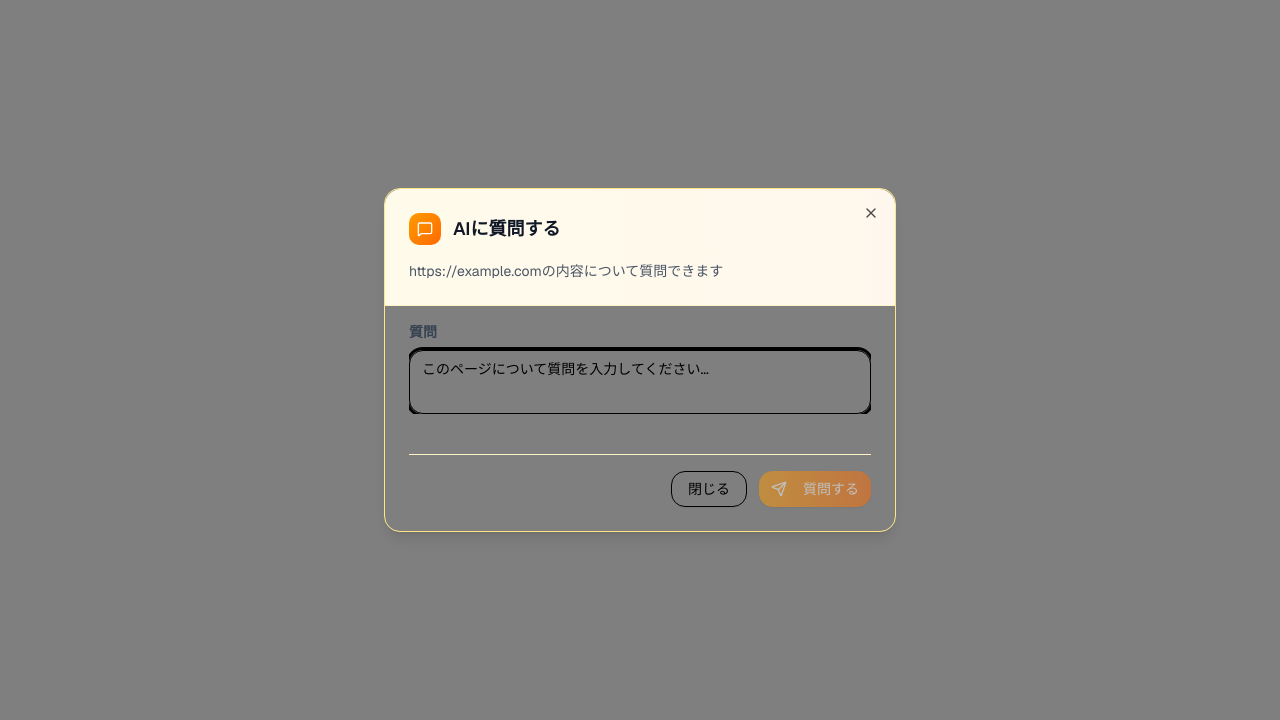
Test case: AiQuestionModal › API通信 › 成功時に回答が表示されるべき
Step 1. Type "質問内容" into the text box with placeholder "このページについて質問を入力してください..." → point(640, 382), box [409, 350, 871, 414]
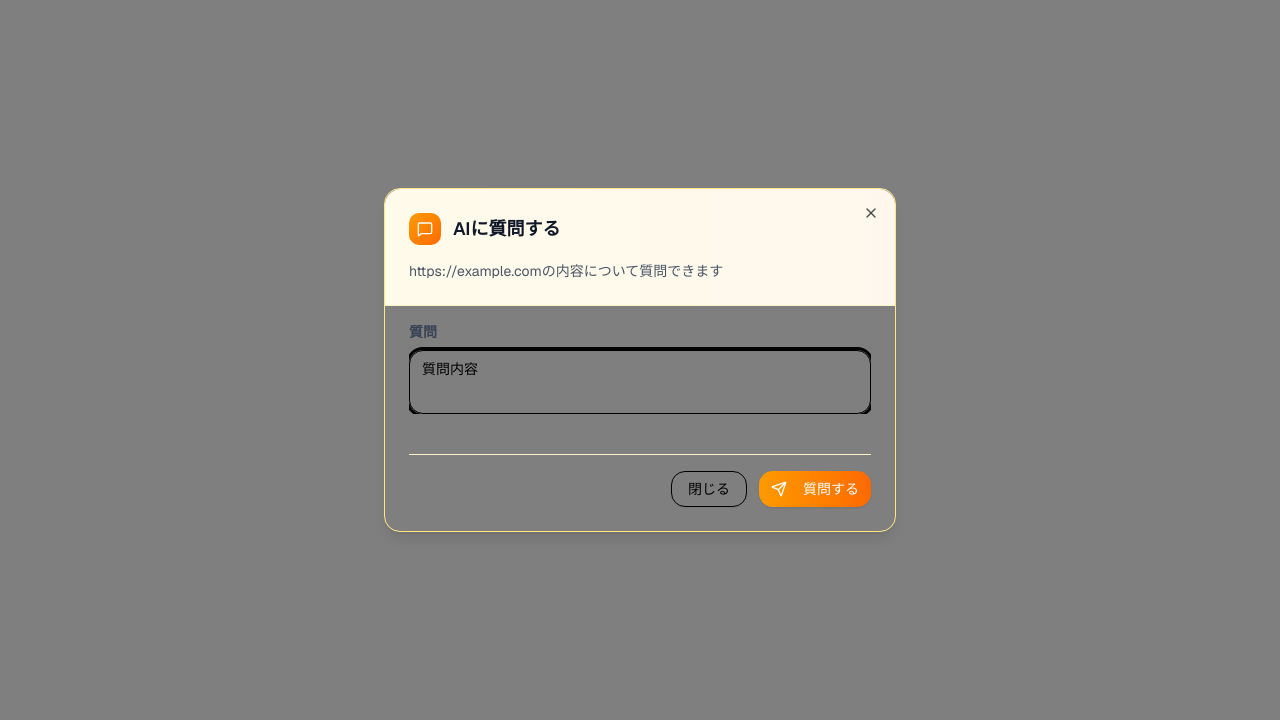
Step 2. Click the button "質問する" → point(815, 489), box [759, 471, 871, 507]
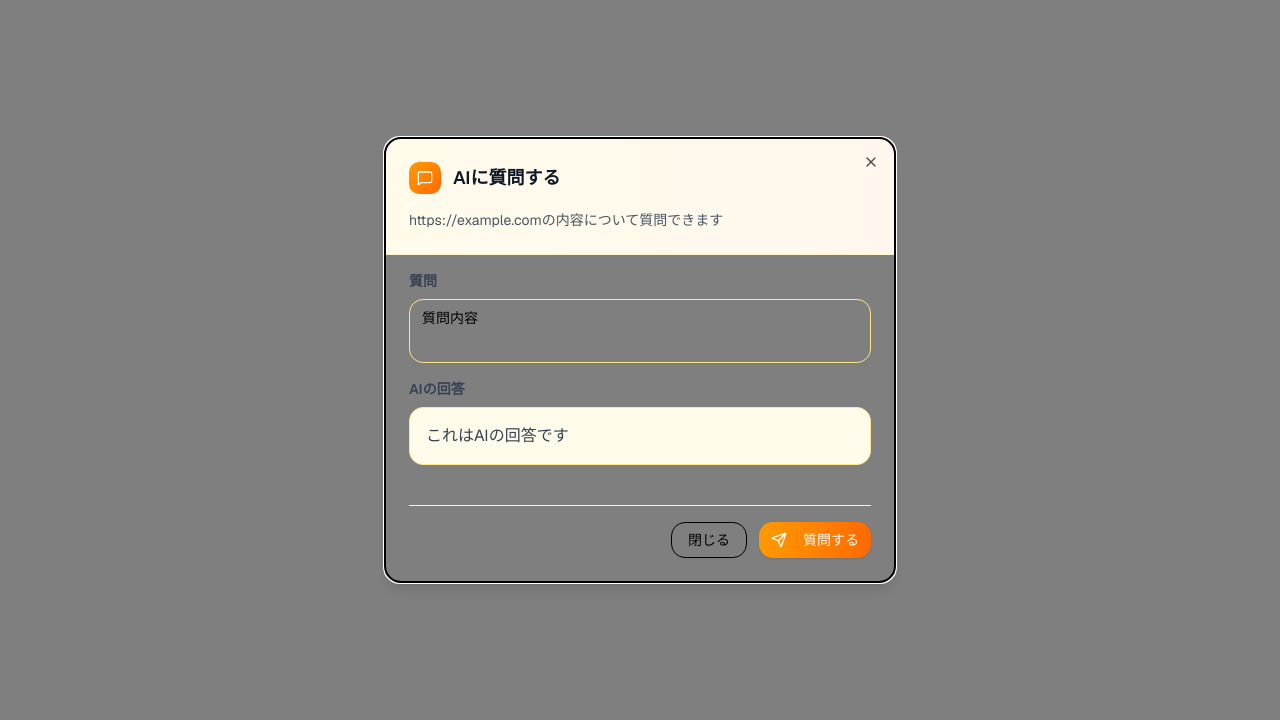
Now the text "これはAIの回答です" is shown, box [426, 425, 569, 446]
